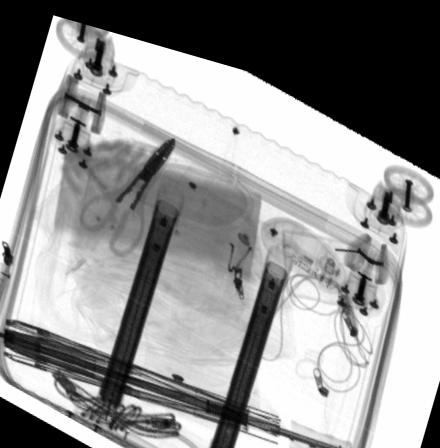Scissors: (76, 126, 174, 251)
